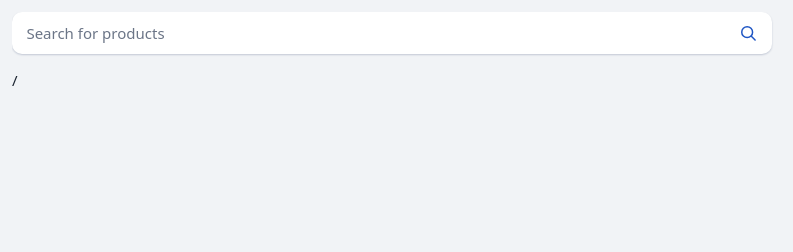
Test: SearchBox suggestions › moves with Up and Down, wraps round, and opens the chosen product with Enter
The image size is (793, 252).
Type "phone" into the dropdown named "Search products". click: point(368, 33)
box: left=12, top=12, right=724, bottom=54
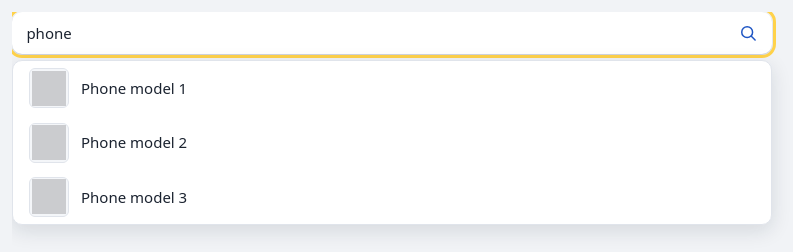
Check: the list is shown, box left=29, top=68, right=187, bottom=217
Press Arrowdown
Press Arrowdown Arrowdown
Press Arrowdown
Press Arrowup
Press Enter
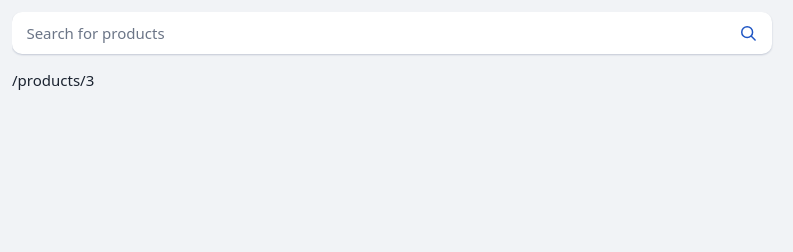
Check: the text with test id "where" reads "/products/3", box left=12, top=70, right=94, bottom=90
